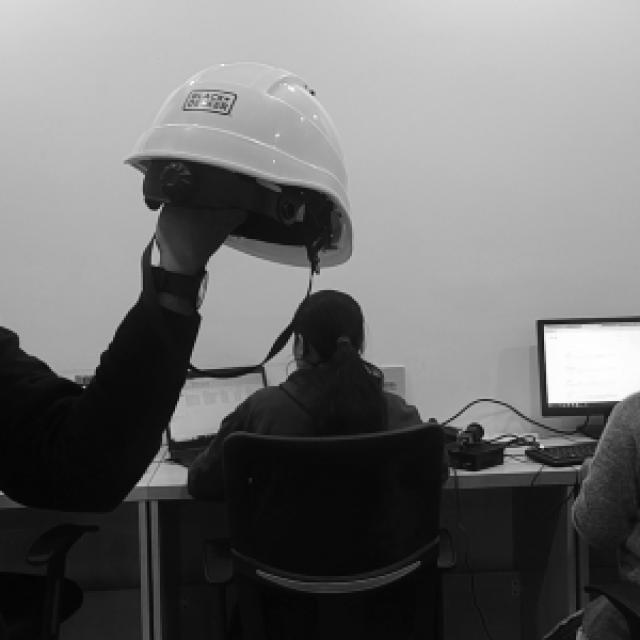safety_helmet: (124, 62, 352, 269)
